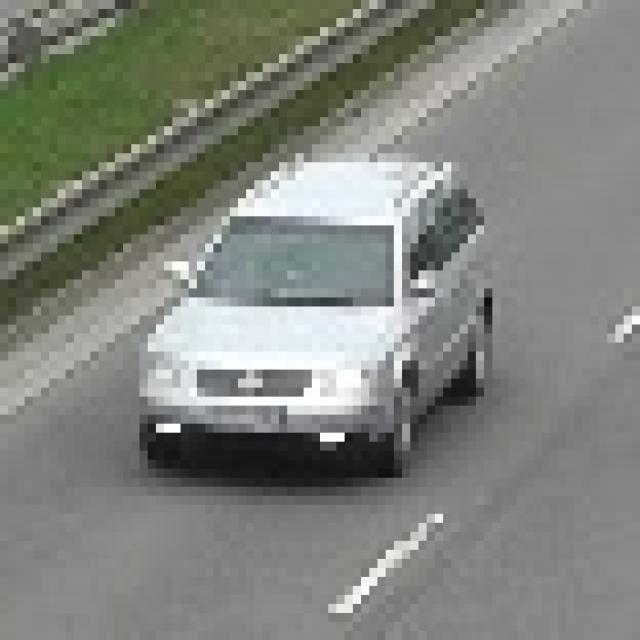SUV: (148, 168, 471, 470)
